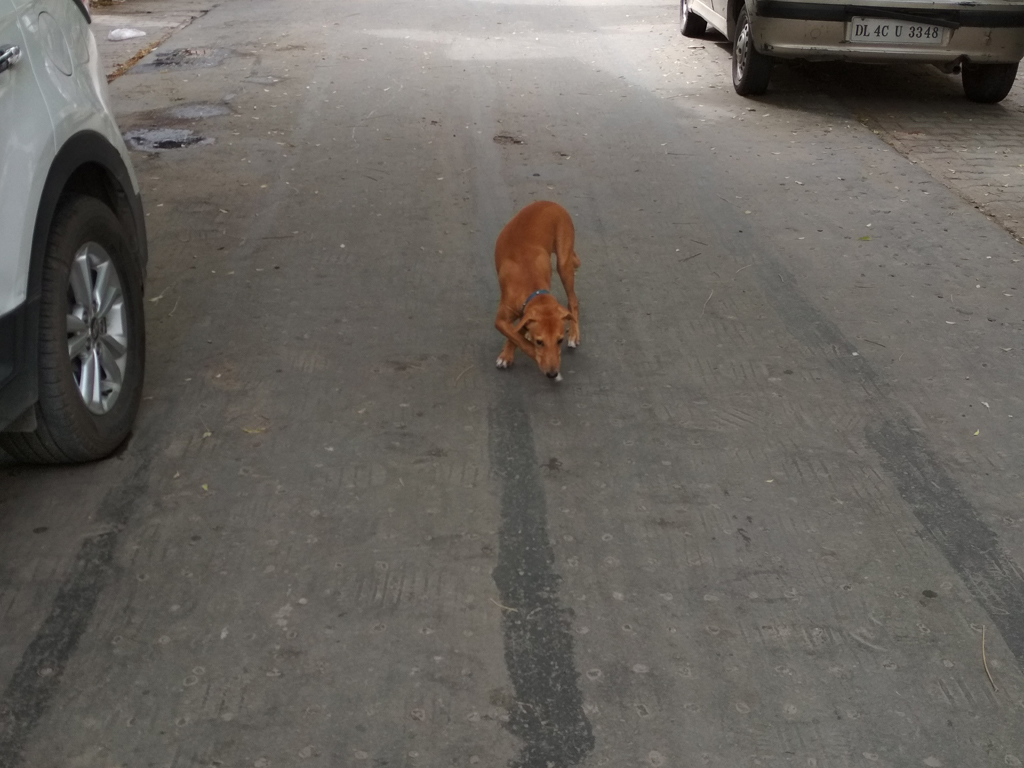dog: (493, 200, 584, 381)
